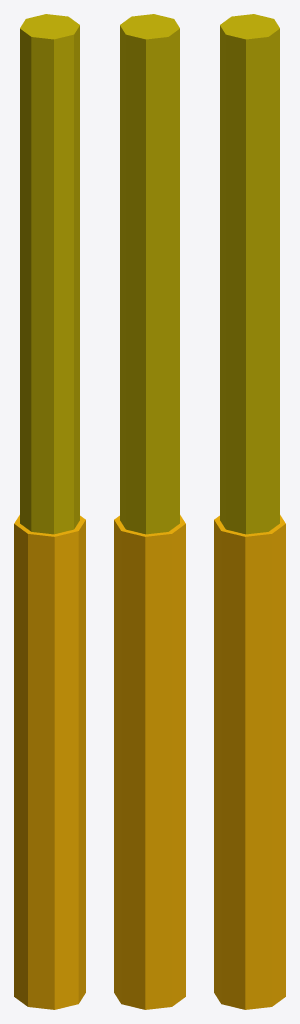
The model's file is mpe_driveshaft_telescopic_large_a.dae.
3 renders of one model, left to right at view 1: azimuth 30°, elevation 25°; view 2: azimuth 150°, elevation 25°; view 3: azimuth 330°, elevation 25°, orthographic.
Parts seen in each view (by area): view 1: telescopic_driveshaft_large_a; view 2: telescopic_driveshaft_large_a; view 3: telescopic_driveshaft_large_a.
Boxes of the visible parts, x1=… form: telescopic_driveshaft_large_a: x1=14, y1=14, x2=85, y2=1009; telescopic_driveshaft_large_a: x1=114, y1=14, x2=185, y2=1009; telescopic_driveshaft_large_a: x1=214, y1=14, x2=285, y2=1009.
Bounding box in the file's own units: 0.125 × 0.125 × 2.
